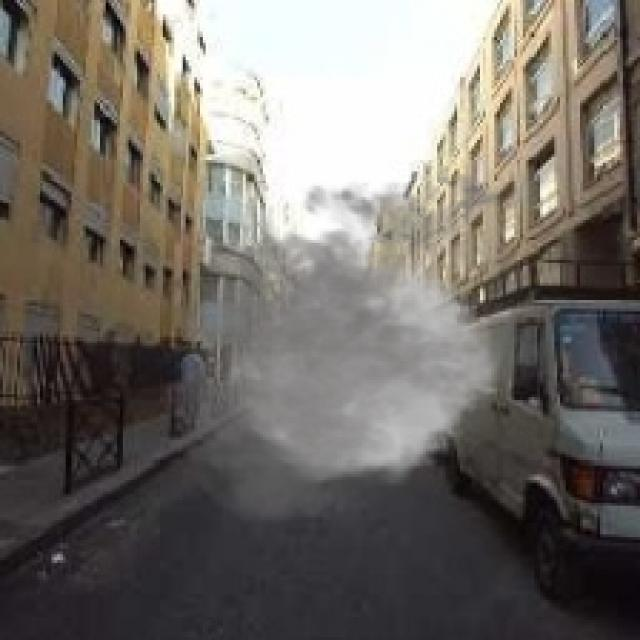Smoke: (148, 160, 574, 537)
